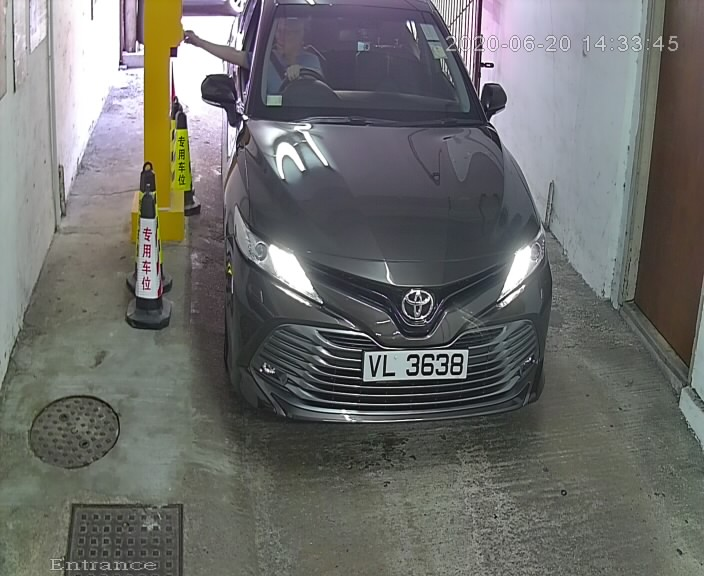privatecar: (190, 3, 569, 463)
